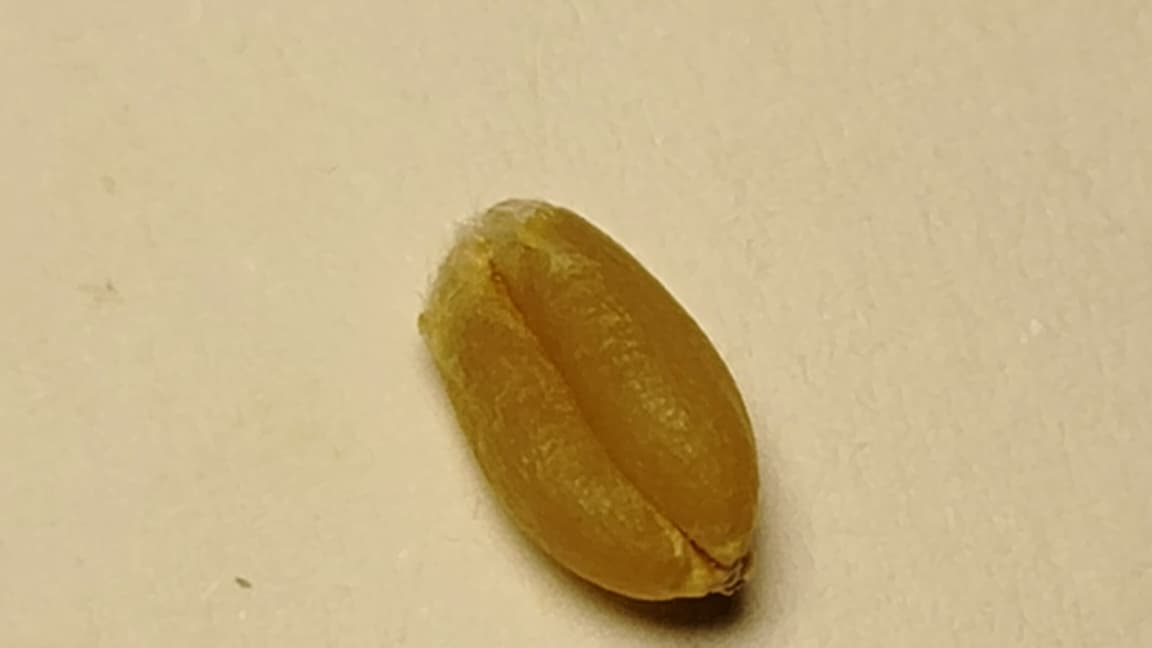healthy: (420, 200, 758, 599)
